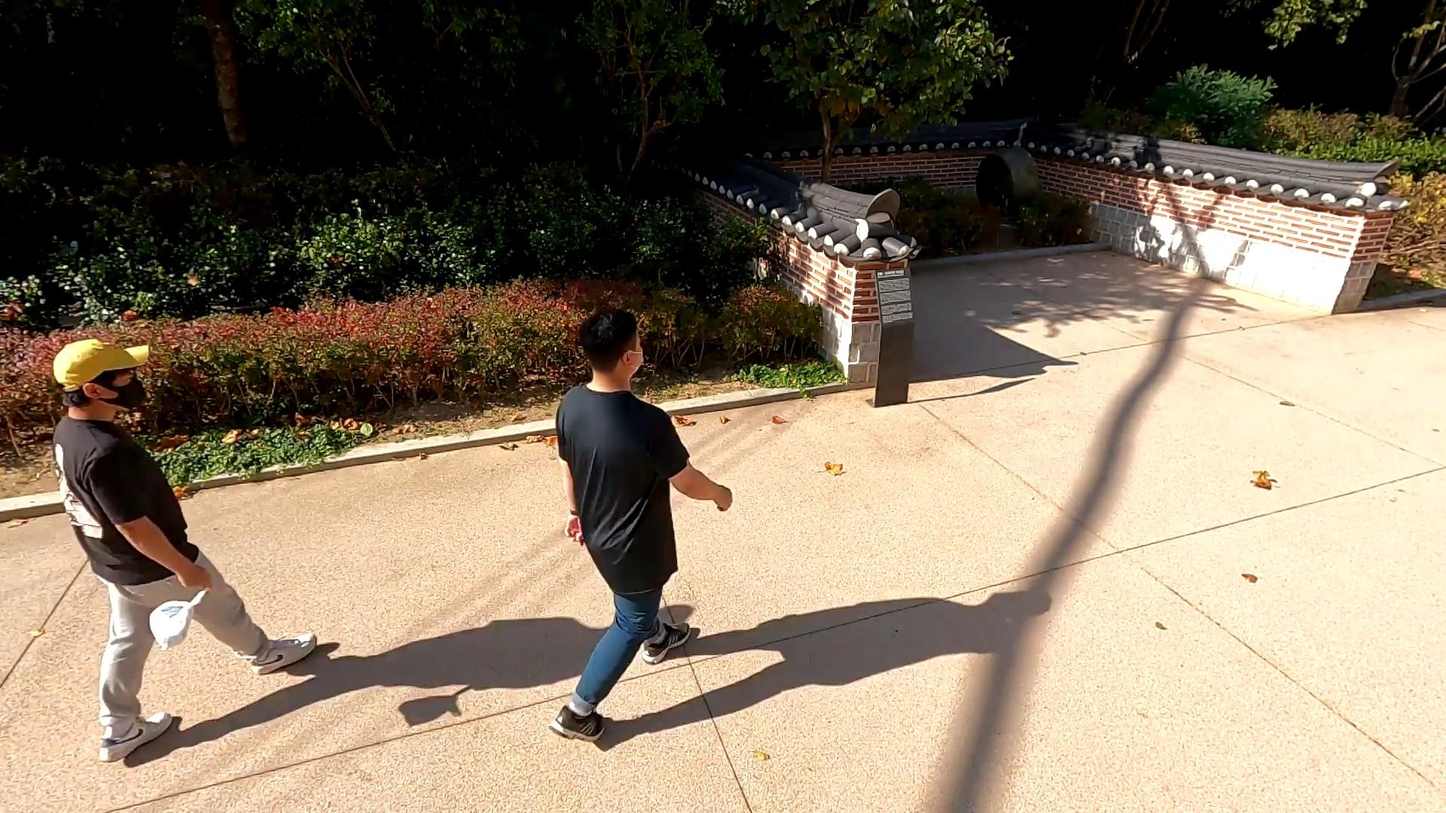person: (29, 332, 329, 769), (526, 303, 737, 749)
trash: (139, 586, 220, 647)
